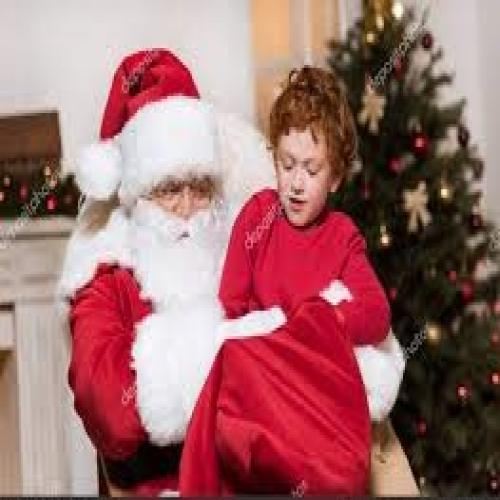Santa: (58, 48, 285, 500)
